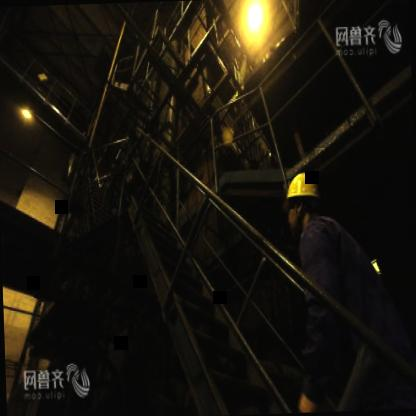helmet: (280, 166, 326, 238)
